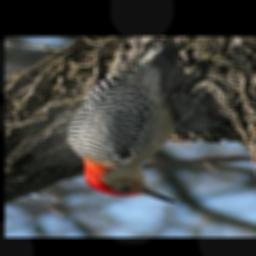Woodpecker: (62, 39, 199, 205)
